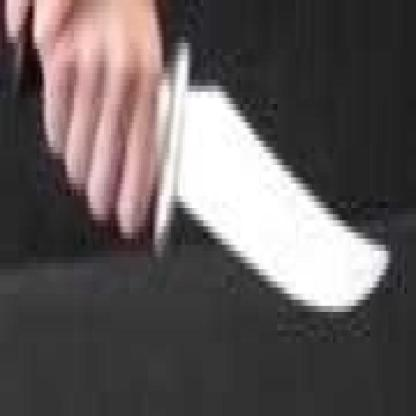Knife: (32, 34, 398, 328)
